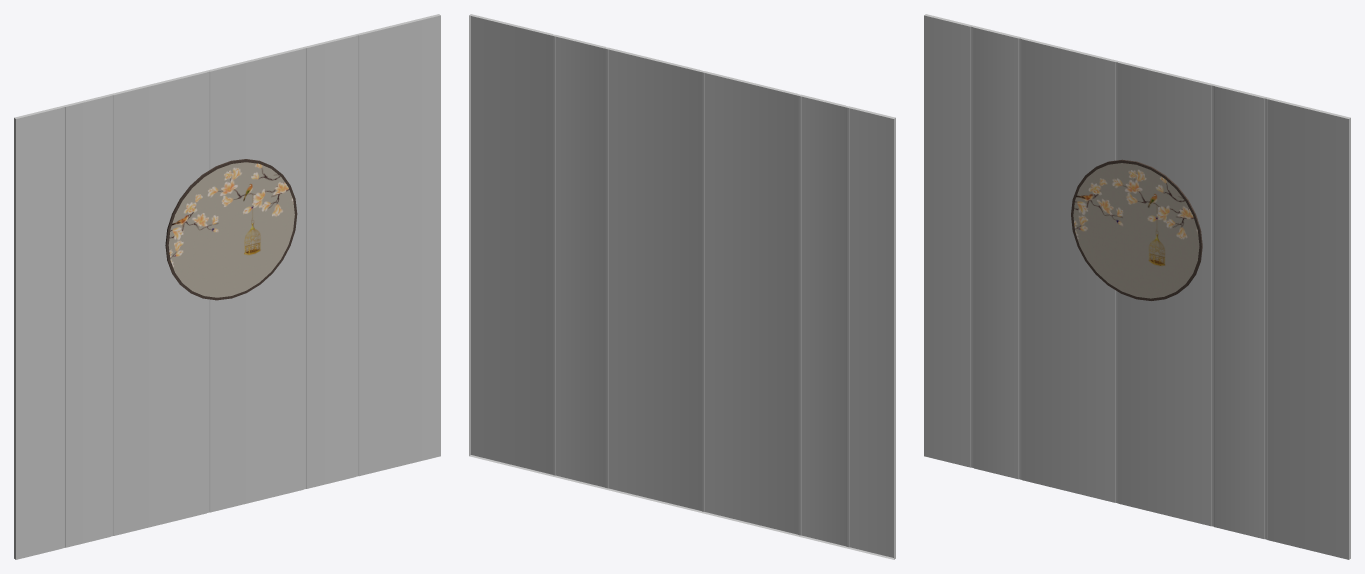
The model's file is background wall.FBX.
3 renders of one model, left to right at view 1: azimuth 30°, elevation 25°; view 2: azimuth 150°, elevation 25°; view 3: azimuth 330°, elevation 25°, orthographic.
Visible parts, largest first — view 1: Box006, Circle001; view 2: Box006; view 3: Box006, Circle001.
Part boxes in pixels (x1,y1,x2,y2): Box006: (14, 14, 440, 559); Circle001: (165, 159, 297, 300); Box006: (469, 14, 895, 559); Box006: (924, 14, 1350, 559); Circle001: (1071, 159, 1202, 300).
Size of the model in its own units: 282 by 280 by 4.25.
3 materials, 2 textured.
